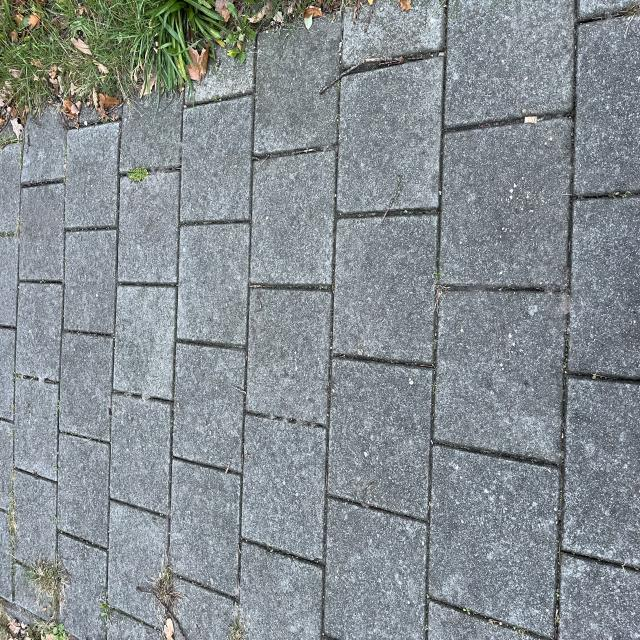pavement: (0, 6, 480, 451), (55, 459, 480, 640)
plants: (12, 457, 48, 640)
